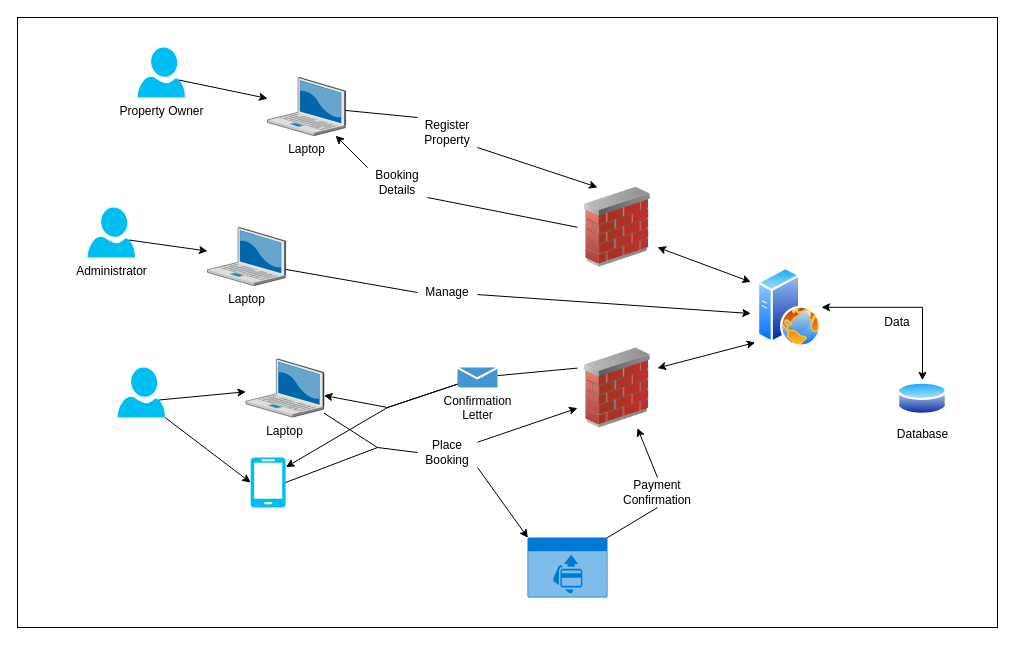
Some shapes in this 1015 by 645 pixel diagram are drawn without their labels. Here are the shapes that lost their labels. From the top down, the centre of each, then its label:
At point 789,307: "Webserver".
At point 140,392: "Customer".
At point 267,482: "Mobile".
At point 567,567: "Payment".
